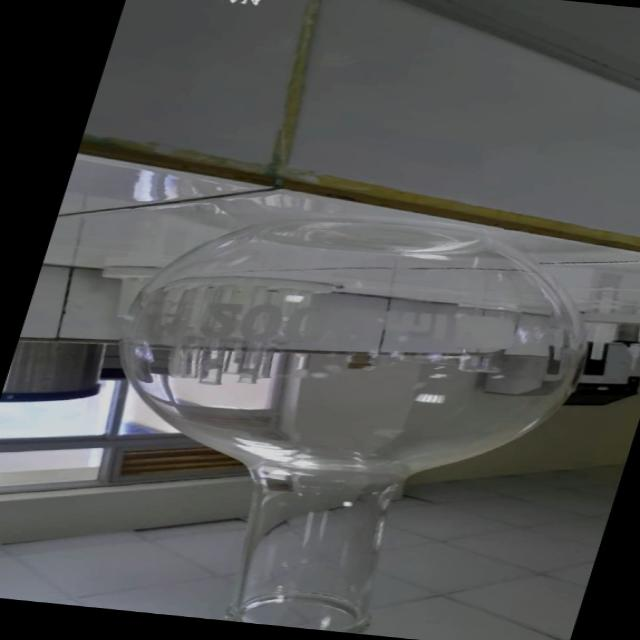Round Bottom Flask: (31, 194, 628, 640)
